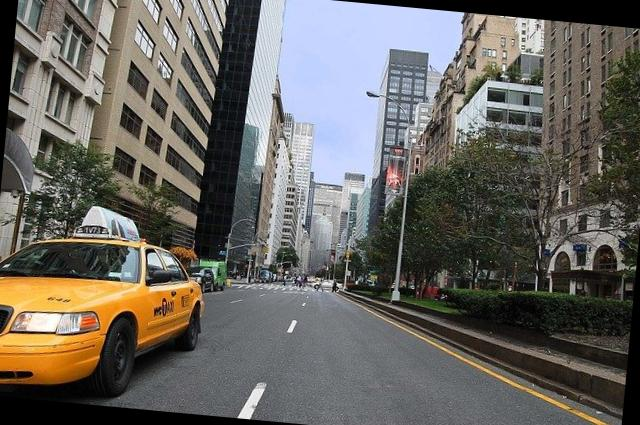taxi: (1, 233, 202, 392)
